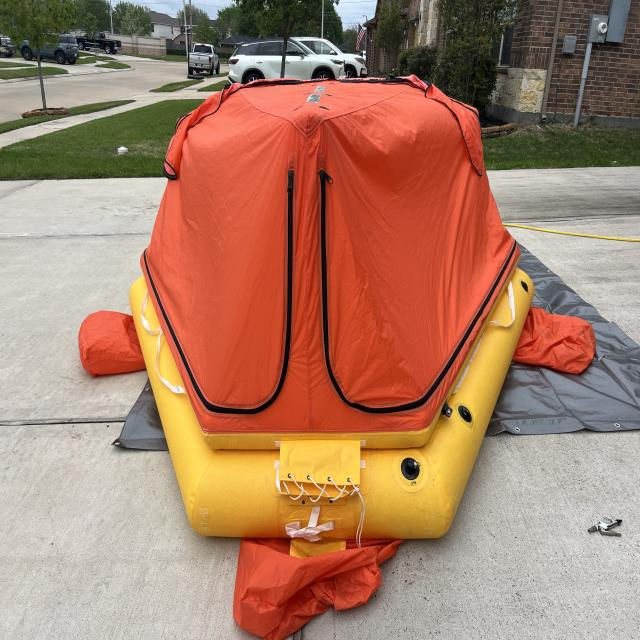Multi-person_life_raft: (79, 71, 597, 639)
